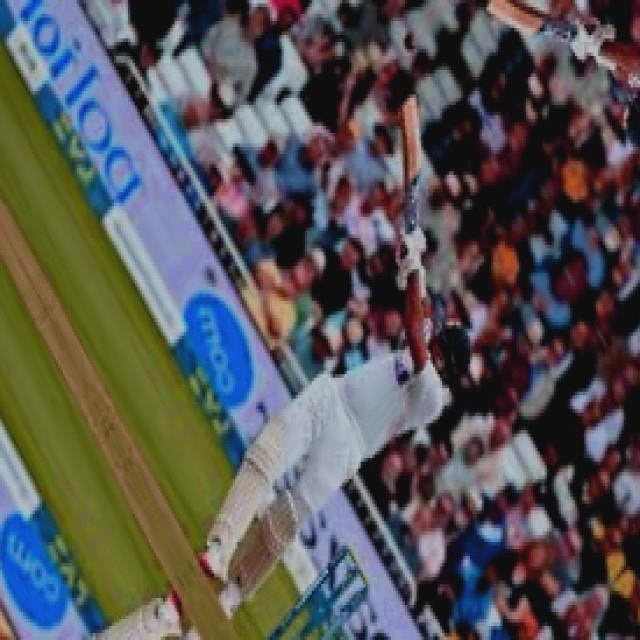toe: (400, 92, 420, 121)
